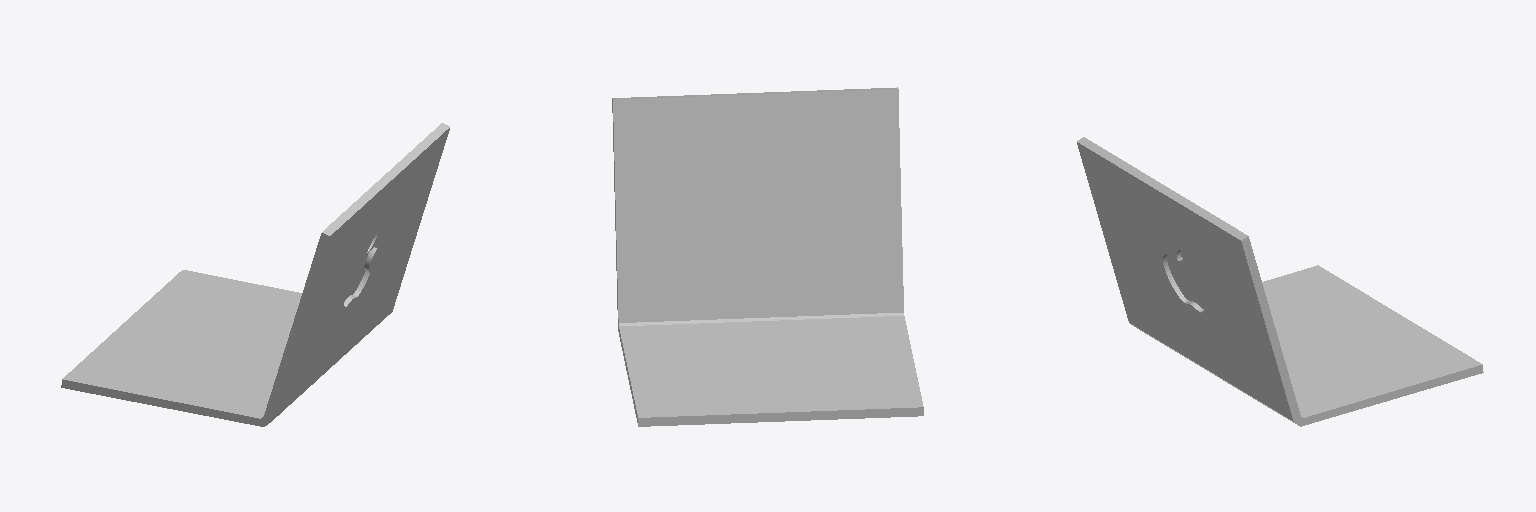
File: laptop.obj
3 views of the same model, side by side, from view 1: azimuth 30°, elevation 25°; view 2: azimuth 150°, elevation 25°; view 3: azimuth 270°, elevation 25° (orthographic).
Visible parts, largest first — view 1: Cube.001_Cube.003; view 2: Cube.001_Cube.003; view 3: Cube.001_Cube.003.
Part boxes in pixels (bbox=[...]): Cube.001_Cube.003: bbox=[61, 123, 449, 426]; Cube.001_Cube.003: bbox=[612, 87, 923, 426]; Cube.001_Cube.003: bbox=[1077, 137, 1483, 426].
Bounding box in the file's own units: 0.703 × 0.3958 × 0.707.